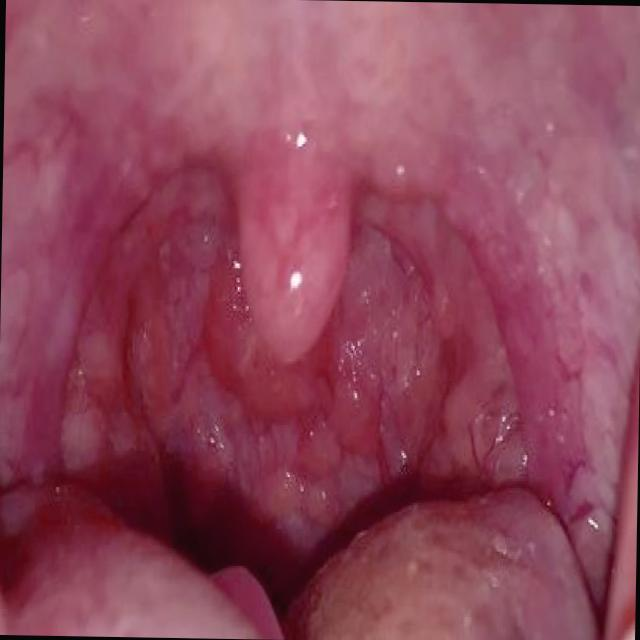Non Pharyngitis: (332, 244, 584, 518), (57, 260, 236, 592)
